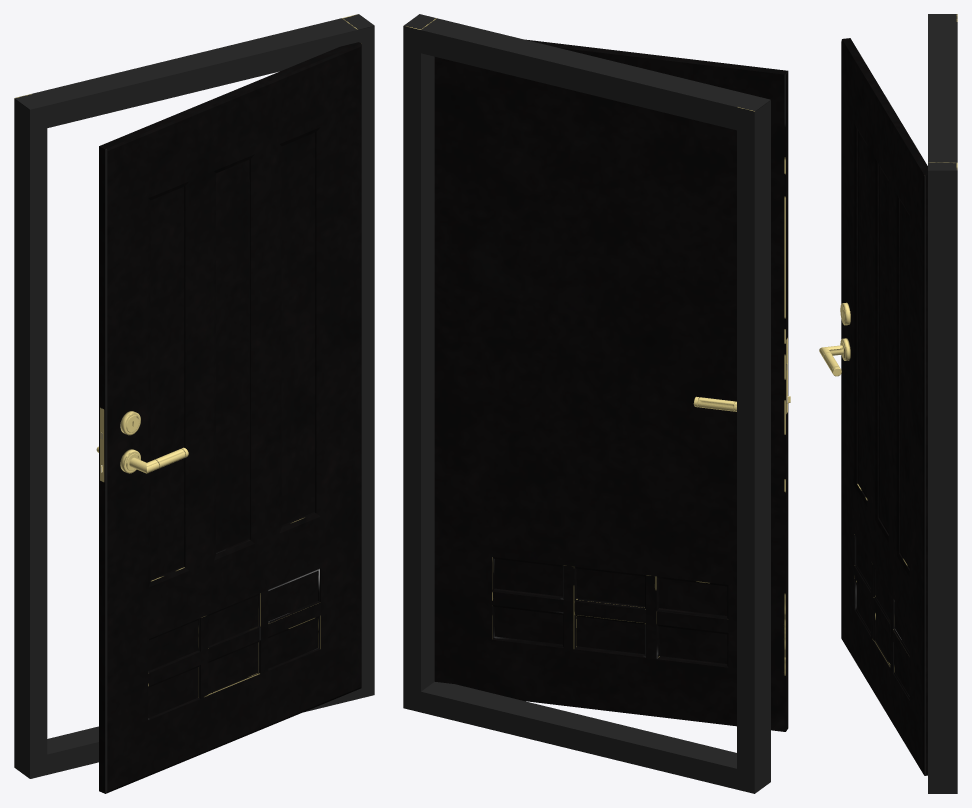
Rendered from Revisi Pintu.fbx.
3 renders of one model, left to right at view 1: azimuth 30°, elevation 25°; view 2: azimuth 150°, elevation 25°; view 3: azimuth 270°, elevation 25°, orthographic. The views are drawn at different scales.
Parts seen in each view (by area): view 1: Cube.009, Cube.008; view 2: Cube.009, Cube.008; view 3: Cube.009, Cube.008.
Boxes of the visible parts, x1,y1,x2,y2 form: Cube.009: (96,42,361,793); Cube.008: (14,14,374,778); Cube.009: (434,39,790,731); Cube.008: (403,14,770,793); Cube.009: (819,38,927,775); Cube.008: (928,14,957,793).
Bounding box in the file's own units: 111 × 206 × 41.53.
Materials: 1 (1 with a texture image).
